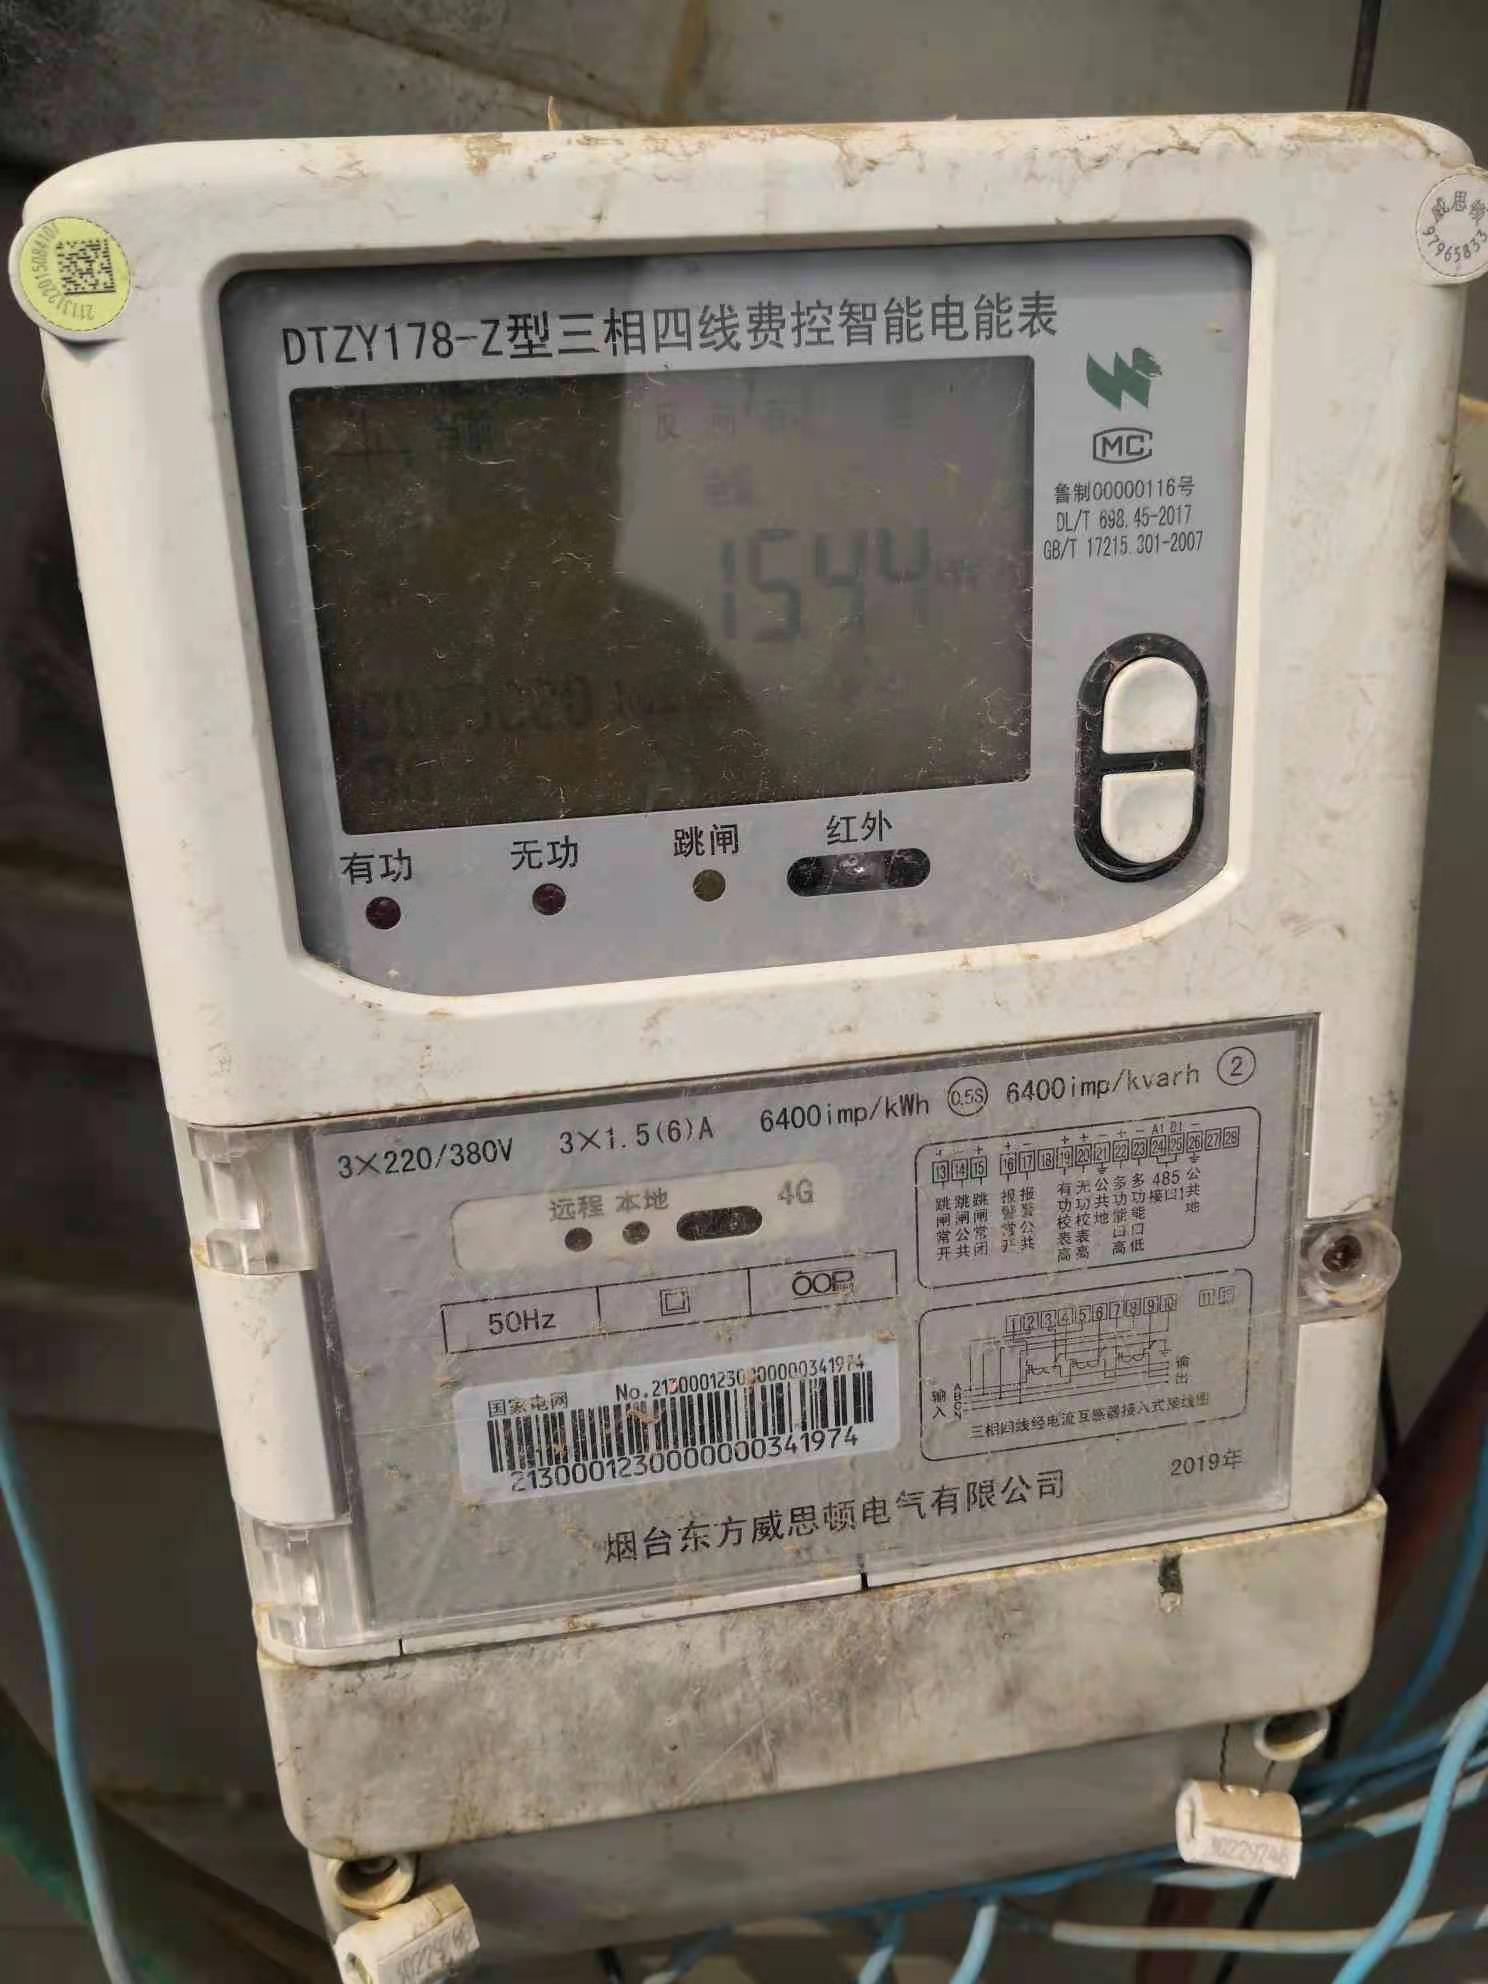digital: (27, 117, 1469, 1857)
